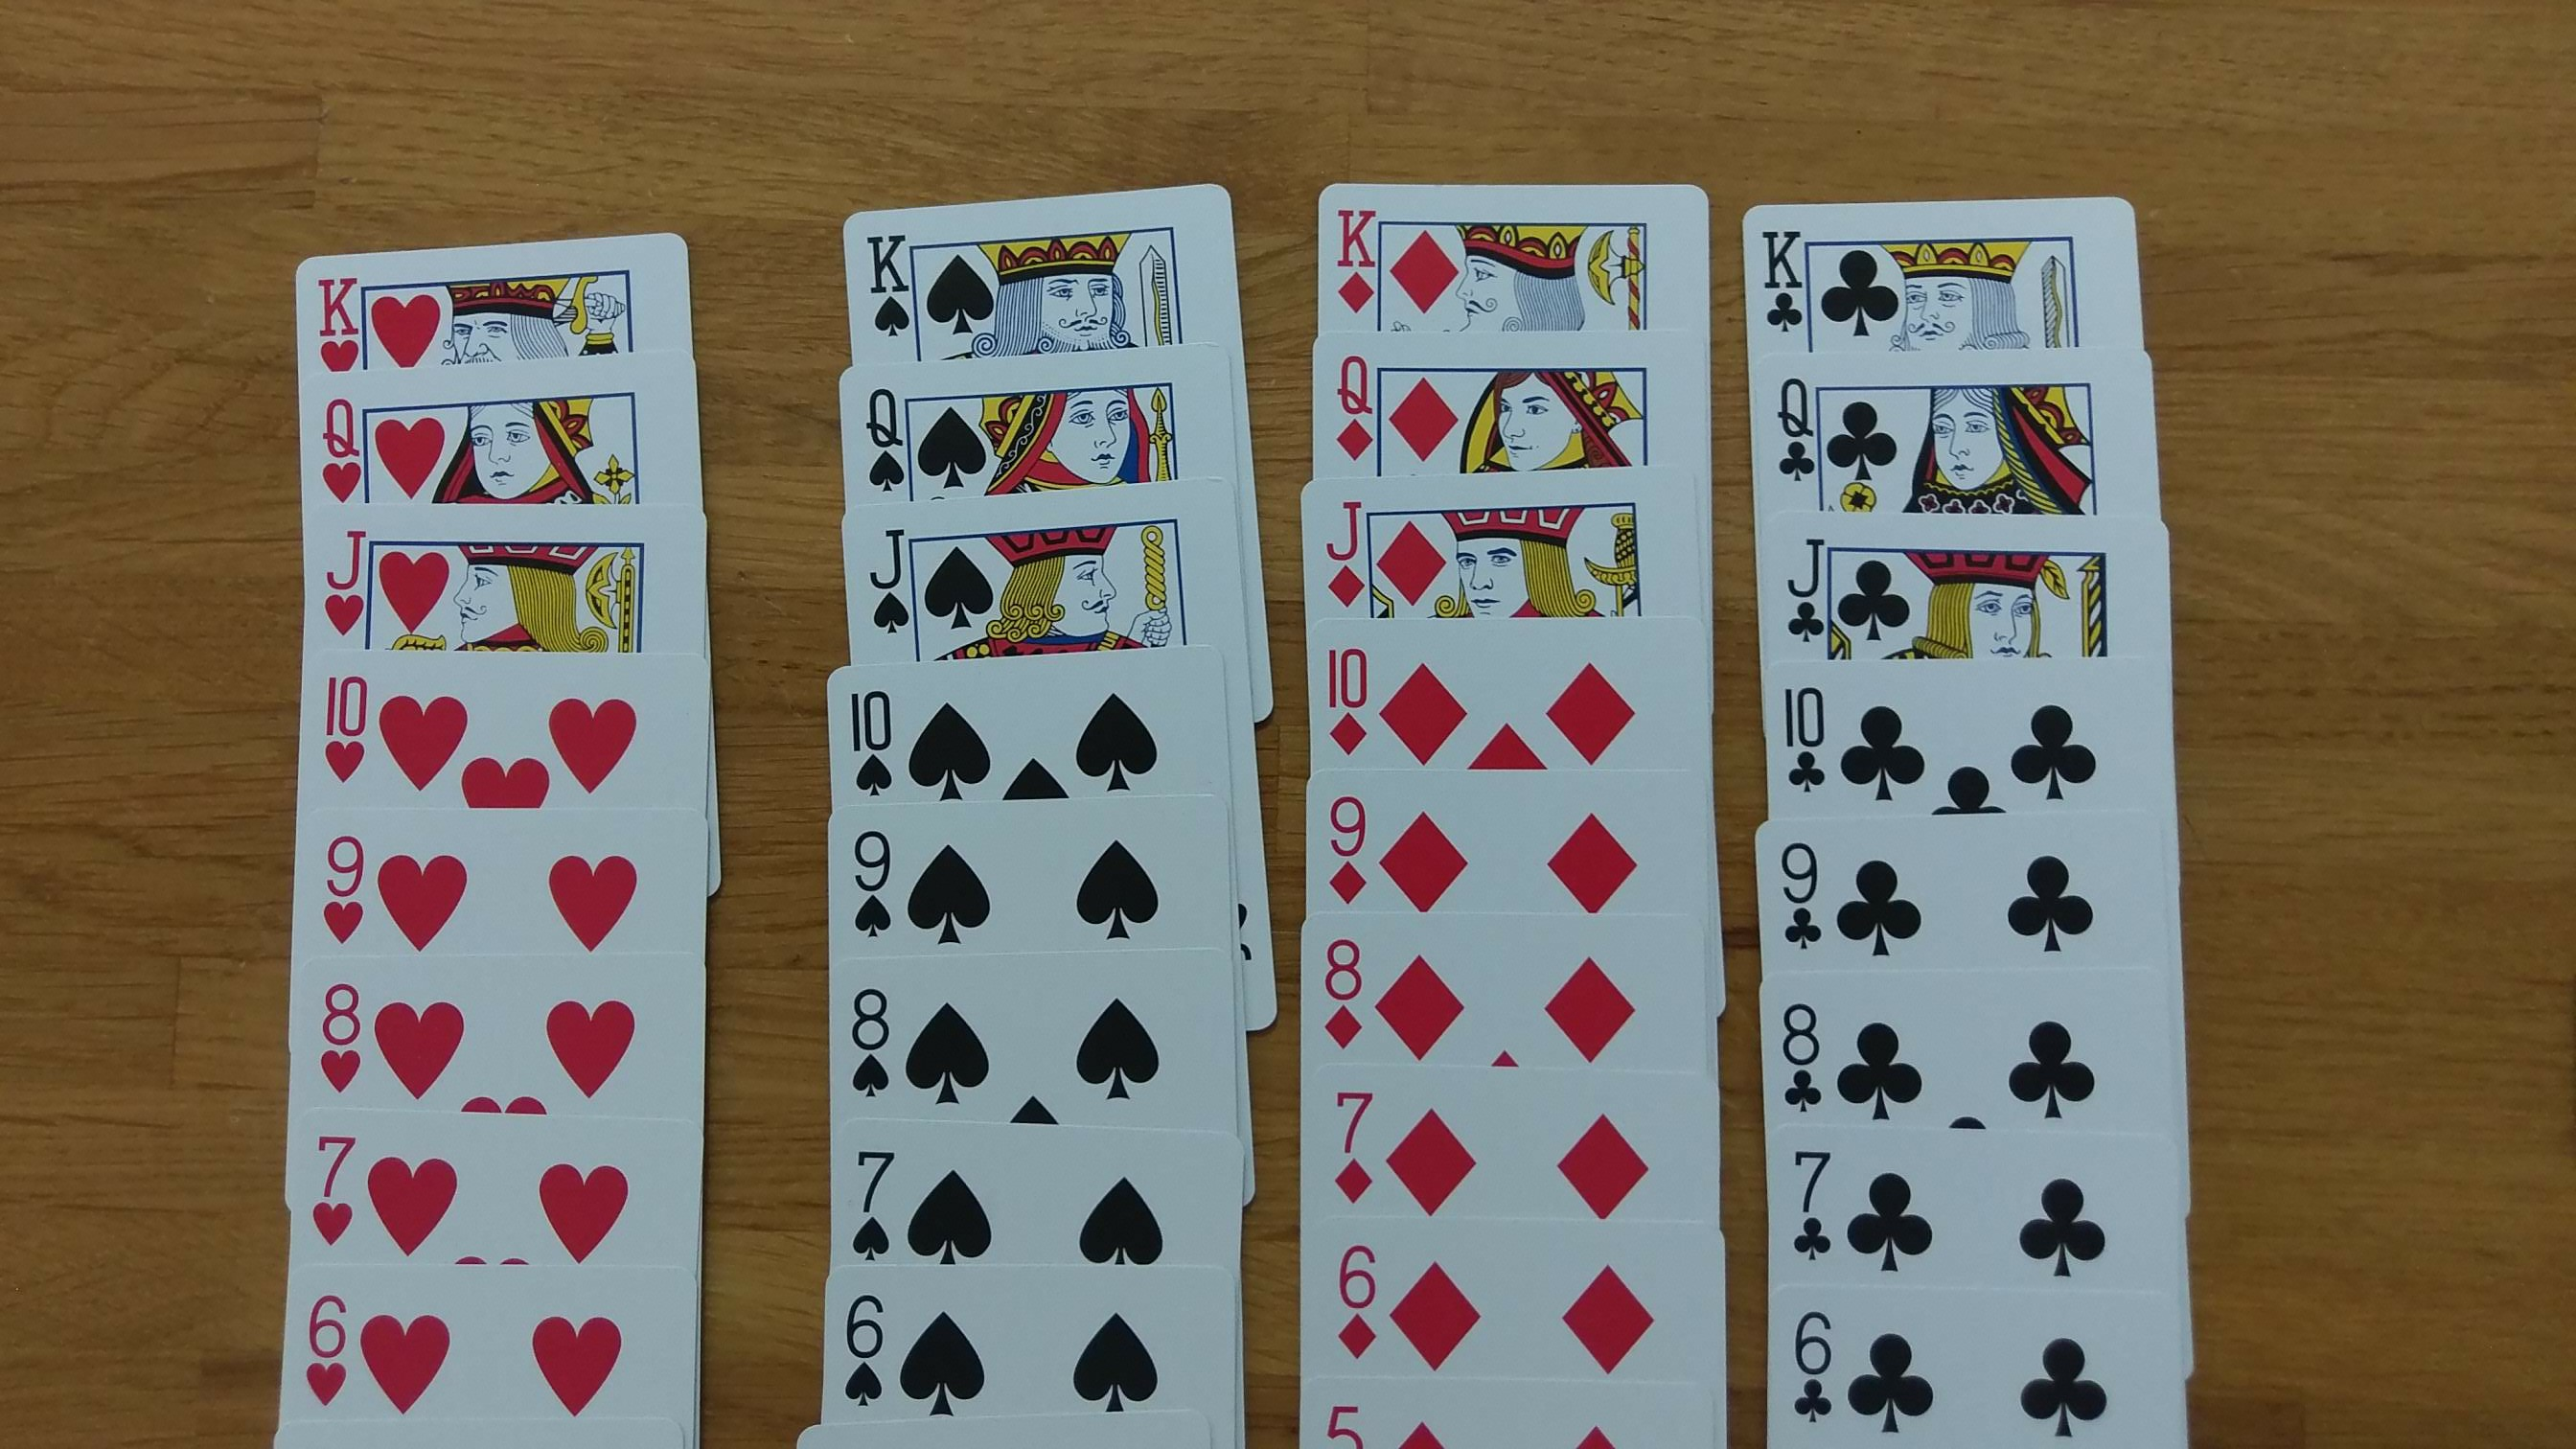10F: (1760, 665, 1849, 803)
10Q: (1318, 640, 1376, 763)
6F: (1778, 1297, 1849, 1430)
6Q: (1329, 1233, 1391, 1366)
7F: (1789, 1139, 1838, 1261)
7Q: (1323, 1083, 1385, 1212)
8F: (1771, 982, 1831, 1122)
8Q: (1318, 929, 1373, 1054)
9F: (1775, 830, 1838, 961)
9Q: (1313, 787, 1376, 909)
JF: (1783, 518, 1833, 658)
JQ: (1318, 490, 1376, 625)
KF: (1748, 211, 1815, 341)
KQ: (1320, 191, 1387, 327)
QF: (1764, 363, 1831, 497)
QQ: (1330, 345, 1376, 467)
